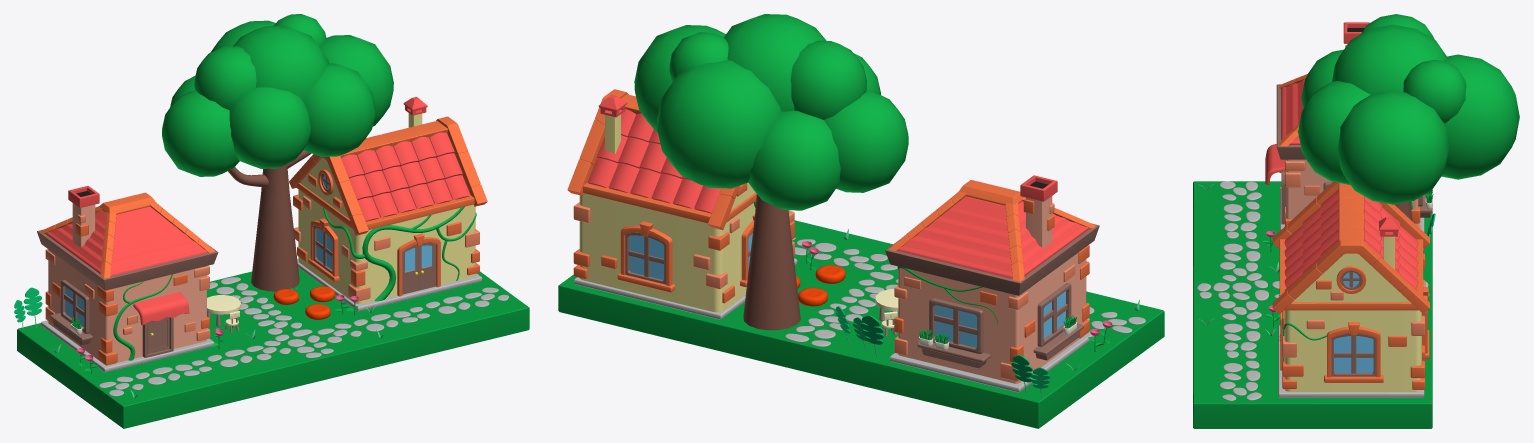
The model's file is Town_Island_10.glb.
3 views of the same model, side by side, from view 1: azimuth 30°, elevation 25°; view 2: azimuth 150°, elevation 25°; view 3: azimuth 270°, elevation 25° (orthographic). The views are drawn at different scales.
Parts seen in each view (by area): view 1: Town_10_Tree_1, Town_10_Base_1, Town_10_House_2, Town_10_House_1, Town_10_Table_1; view 2: Town_10_Tree_1, Town_10_House_1, Town_10_Base_1, Town_10_House_2; view 3: Town_10_Tree_1, Town_10_House_2, Town_10_Base_1, Town_10_House_1, Town_10_Path_14, Town_10_Path_10, Town_10_Path_11, Town_10_Path_8, Town_10_Path_16, Town_10_Path_5, Town_10_Path_13, Town_10_Path_12 (+4 smaller).
Part boxes in pixels (left/top/right/bottom): Town_10_Tree_1: left=162, top=14, right=393, bottom=291; Town_10_Base_1: left=17, top=268, right=529, bottom=428; Town_10_House_2: left=289, top=97, right=487, bottom=311; Town_10_House_1: left=37, top=186, right=218, bottom=372; Town_10_Table_1: left=207, top=295, right=240, bottom=326; Town_10_Tree_1: left=634, top=14, right=908, bottom=330; Town_10_House_1: left=885, top=175, right=1099, bottom=392; Town_10_Base_1: left=558, top=220, right=1164, bottom=428; Town_10_House_2: left=567, top=89, right=797, bottom=319; Town_10_Tree_1: left=1298, top=14, right=1519, bottom=221; Town_10_House_2: left=1272, top=182, right=1429, bottom=397; Town_10_Base_1: left=1193, top=181, right=1432, bottom=428; Town_10_House_1: left=1265, top=22, right=1432, bottom=250; Town_10_Path_14: left=1223, top=201, right=1260, bottom=221; Town_10_Path_10: left=1223, top=360, right=1260, bottom=380; Town_10_Path_11: left=1219, top=381, right=1261, bottom=400; Town_10_Path_8: left=1223, top=321, right=1260, bottom=341; Town_10_Path_16: left=1223, top=241, right=1260, bottom=261; Town_10_Path_5: left=1232, top=280, right=1268, bottom=300; Town_10_Path_13: left=1220, top=181, right=1261, bottom=200; Town_10_Path_12: left=1220, top=262, right=1261, bottom=281.
Bounding box in the file's own units: 21.44 × 13.61 × 13.09.
Materials: 48 (48 with a texture image).
